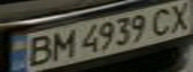3: (112, 15, 136, 47)
4: (78, 21, 103, 55)
9: (127, 11, 154, 43), (93, 18, 118, 52)
B: (18, 33, 57, 69)
C: (145, 4, 178, 36)
M: (45, 28, 78, 61)
X: (163, 0, 193, 33)
